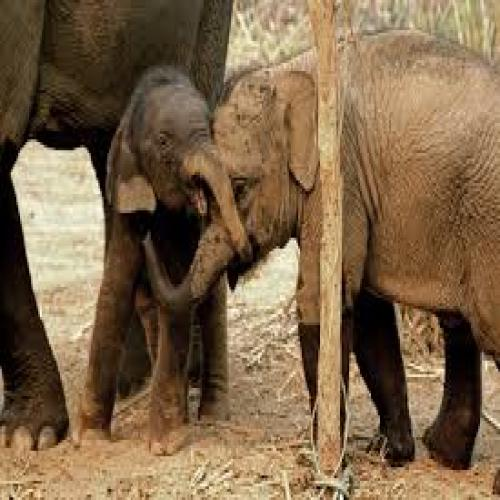asian_elephant-endangered: (141, 29, 500, 485), (0, 0, 233, 455), (72, 70, 253, 442)
